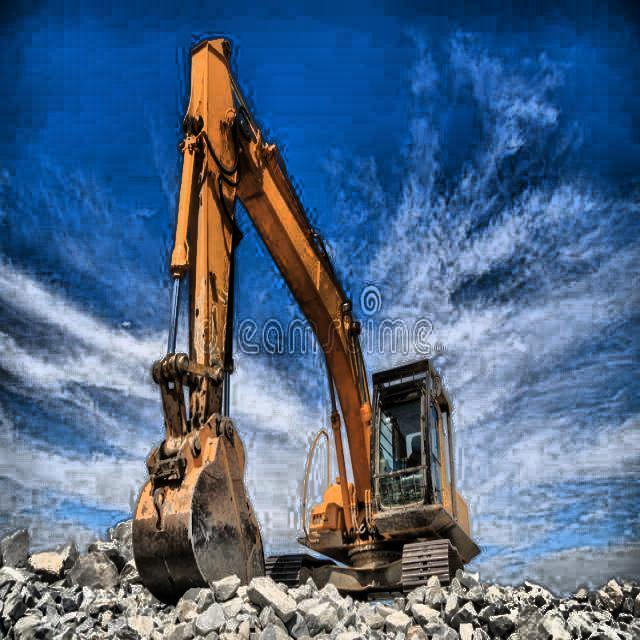excavator: (128, 33, 484, 601)
